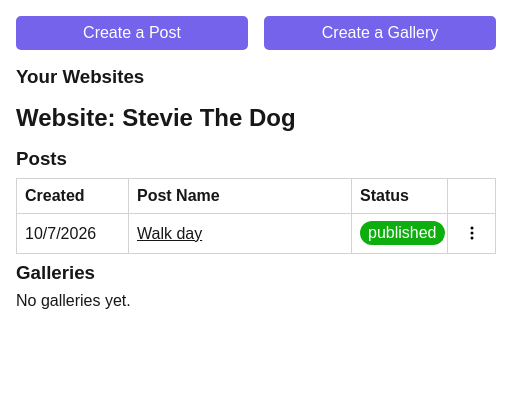
Test case: Dashboard page › moves a post to draft from its ⋮ menu straight away, and the refetched row shows it
The width and height of the screenshot is (513, 407).
Click the button named "Actions for Walk day".
click(472, 233)  # box [460, 222, 483, 244]
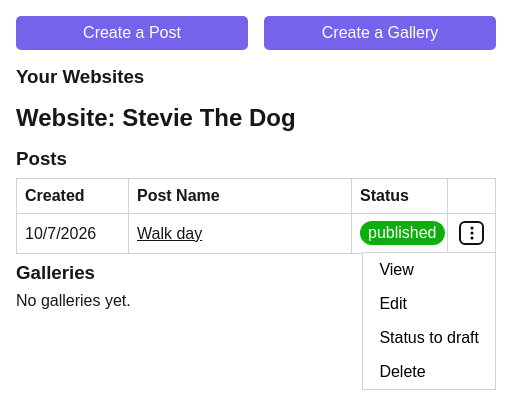
Click the button "Status to draft".
click(429, 338)  # box [363, 321, 495, 355]
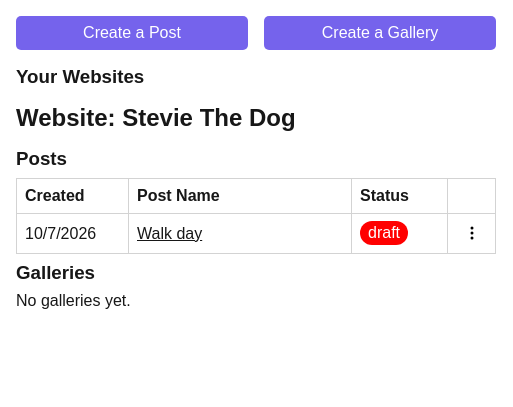
Check: the text "draft" is shown, box [360, 221, 408, 245]
